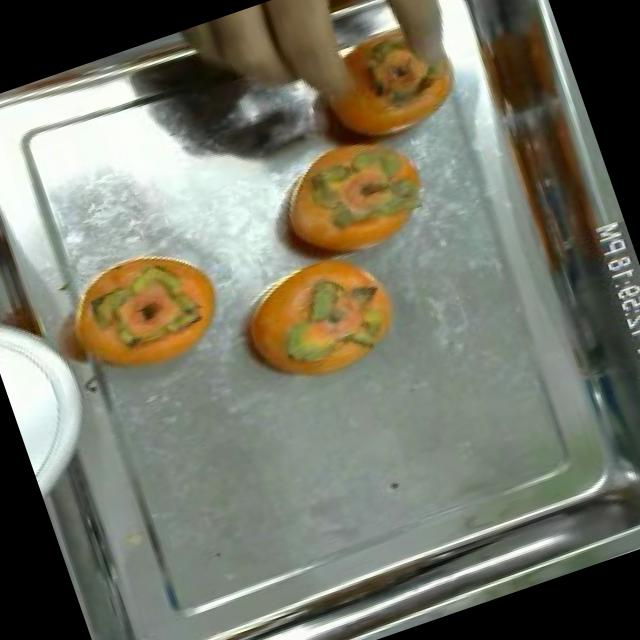Fruit: (22, 212, 256, 413), (244, 101, 457, 283), (208, 233, 422, 410)
